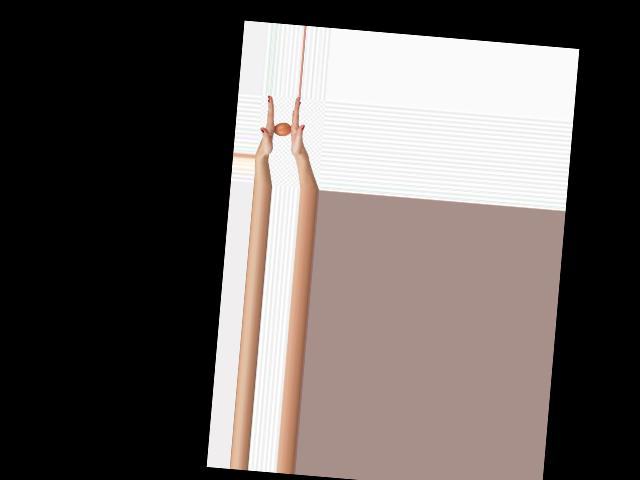egg: (274, 122, 292, 137)
